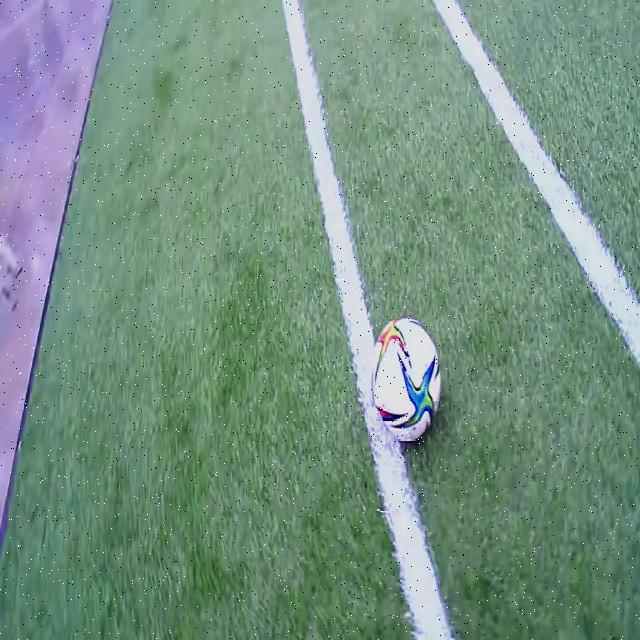ball: (370, 316, 441, 444)
